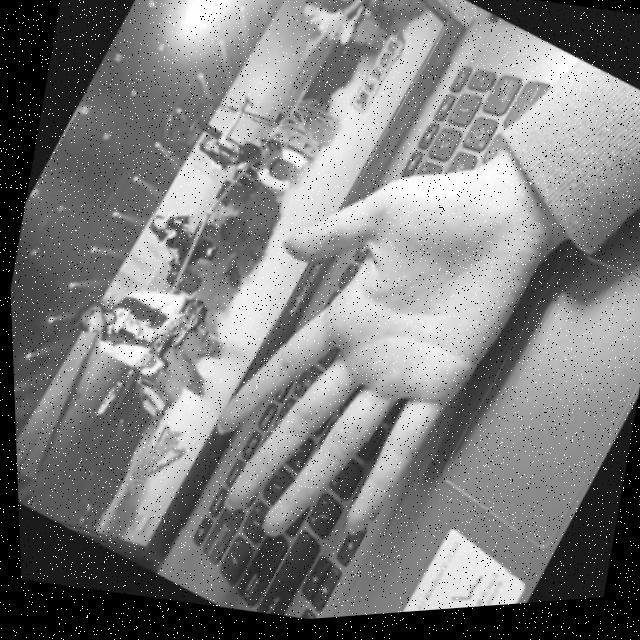no-gloves: (177, 80, 596, 595)
